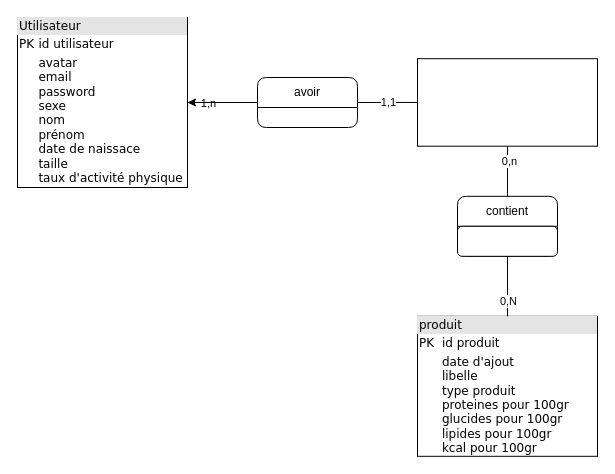
The diagram is 615 pixels wide and 474 high, and some of its shapes have lost their labels. The shapes that lost their labels are listed below. From the top down, each one's box as (x1, y1, x2, y2) in pixels, then its label:
(416, 58, 598, 146): Suivi PK id suivi date kcal reference poids utilisateur
(456, 225, 558, 256): quantité
